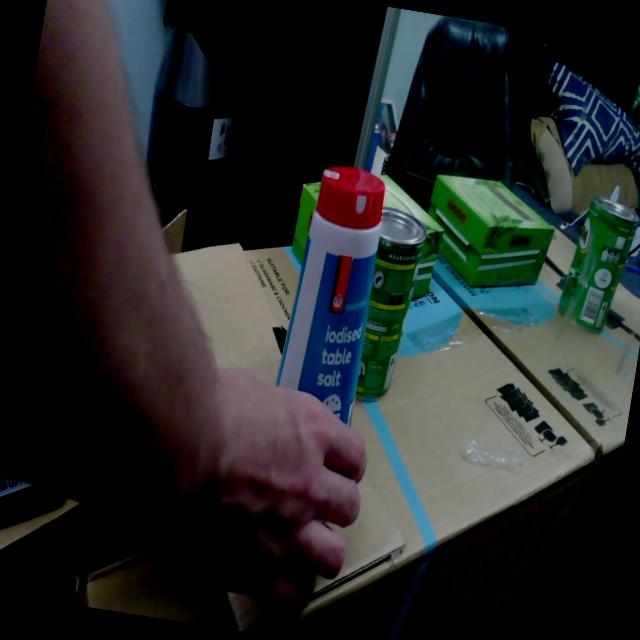nestle_milo_tin: (355, 207, 427, 401)
twinings_greentea_box: (378, 175, 444, 298), (292, 183, 321, 266)
woolworths_salt_bottle: (275, 167, 385, 427)
